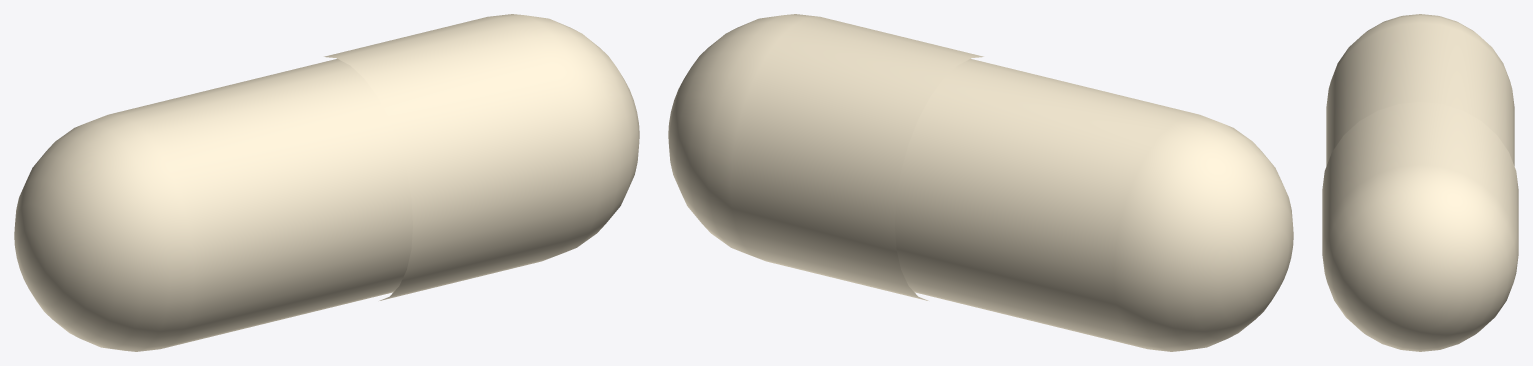
3 renders of one model, left to right at view 1: azimuth 30°, elevation 25°; view 2: azimuth 150°, elevation 25°; view 3: azimuth 270°, elevation 25°, orthographic. The views are drawn at different scales.
Visible parts, largest first — view 1: body, cap; view 2: body, cap; view 3: cap, body.
Boxes of the visible parts, x1,y1,x2,y2 form: body: (14, 58, 412, 351); cap: (324, 14, 639, 300); body: (895, 58, 1293, 351); cap: (668, 14, 983, 300); cap: (1322, 102, 1518, 351); body: (1326, 14, 1514, 165).
Size of the model in its own units: 0.0233 by 0.00853 by 0.00853.
